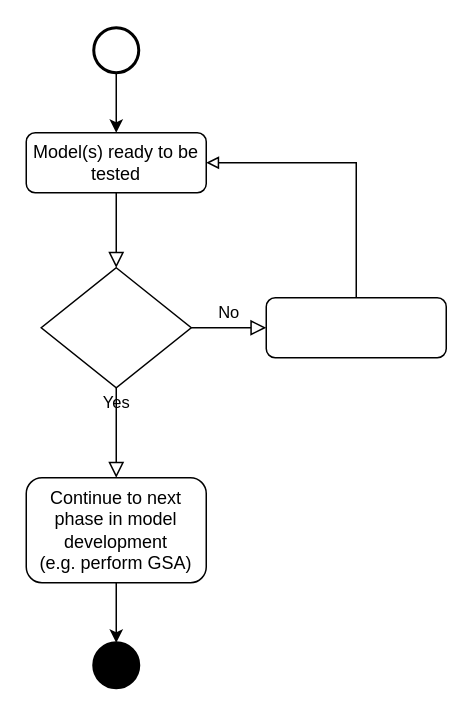
The diagram is 473 pixels wide and 714 high, and some of its shapes have lost their labels. The centre of each missing label's shape, as x and y in pixels:
Address errors: the point at 355,327
Tests passed?: the point at 115,327
